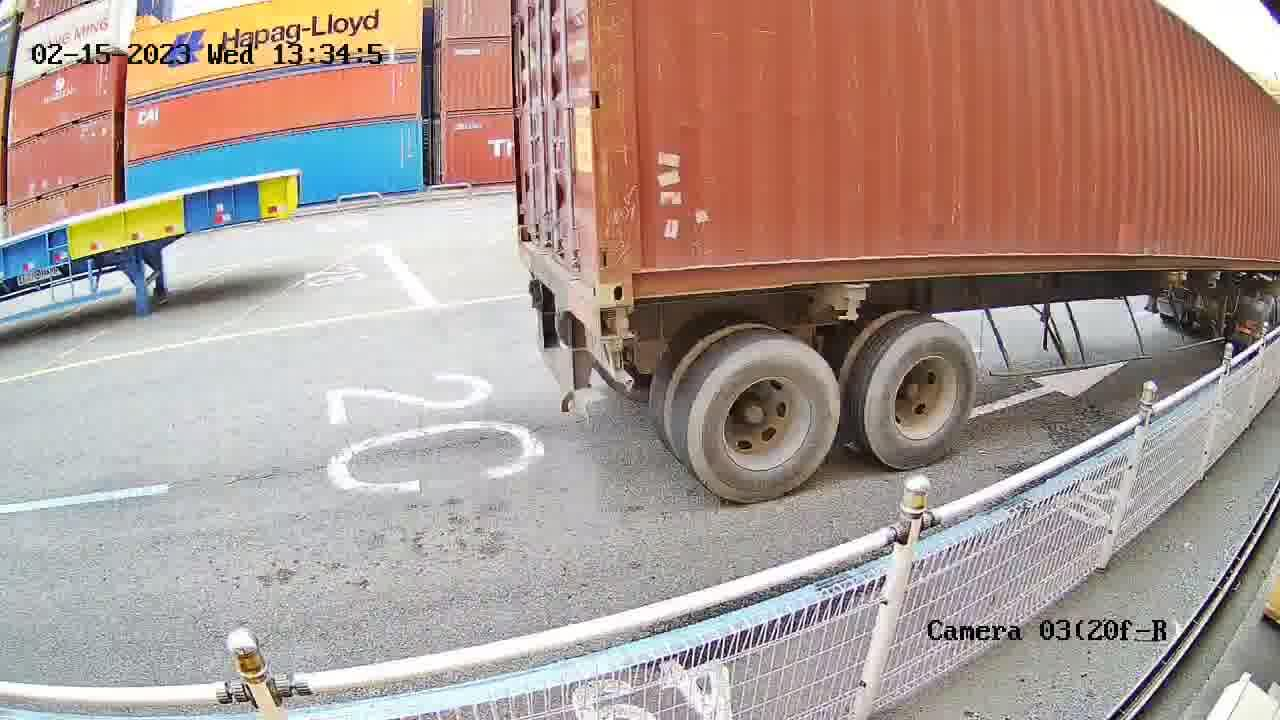Chassis: (516, 241, 602, 333)
Cone: (603, 301, 640, 345)
Hole_L: (597, 225, 674, 304)
Tire: (686, 342, 841, 504), (860, 324, 978, 468)
